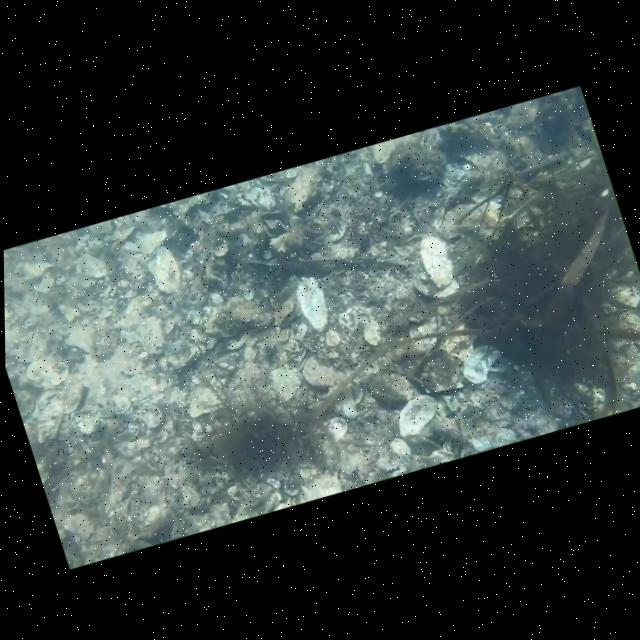Oyster-Closed: (384, 140, 444, 197), (536, 94, 573, 154), (26, 355, 69, 389), (138, 503, 172, 540), (189, 386, 221, 417), (135, 404, 163, 428), (73, 411, 99, 434)
Oyster-Indeterminate: (367, 372, 420, 409), (377, 437, 421, 477), (420, 348, 460, 391), (285, 166, 319, 212), (231, 301, 272, 328)
Oyster-Open: (420, 235, 459, 297), (296, 276, 327, 332), (398, 394, 437, 437), (148, 246, 181, 293), (274, 297, 295, 325)
